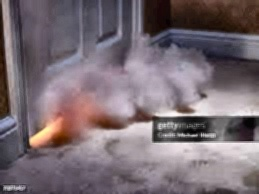fire: (23, 117, 89, 152)
smoke: (49, 37, 214, 113)
